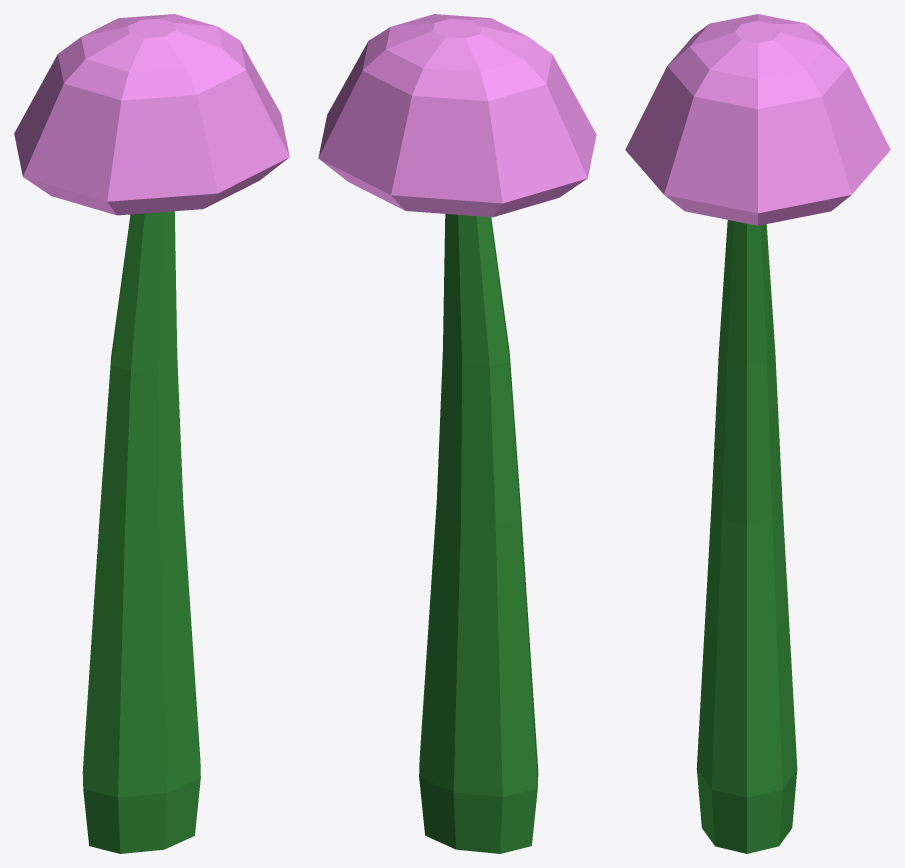
The model's file is TallMushroom.FBX.
The picture shows the model from 3 angles, left to right: view 1: azimuth 30°, elevation 25°; view 2: azimuth 150°, elevation 25°; view 3: azimuth 270°, elevation 25°; orthographic projection.
Visible parts, largest first — view 1: TallMushroomStalk, TallMushroom; view 2: TallMushroomStalk, TallMushroom; view 3: TallMushroomStalk, TallMushroom.
Boxes of the visible parts, left/top/right/bottom form: TallMushroomStalk: left=82, top=211, right=200, bottom=853; TallMushroom: left=14, top=14, right=289, bottom=215; TallMushroomStalk: left=419, top=214, right=538, bottom=853; TallMushroom: left=318, top=14, right=596, bottom=217; TallMushroomStalk: left=696, top=220, right=797, bottom=853; TallMushroom: left=625, top=14, right=890, bottom=225.
Bounding box in the file's own units: 14.86 × 43.85 × 13.13.
